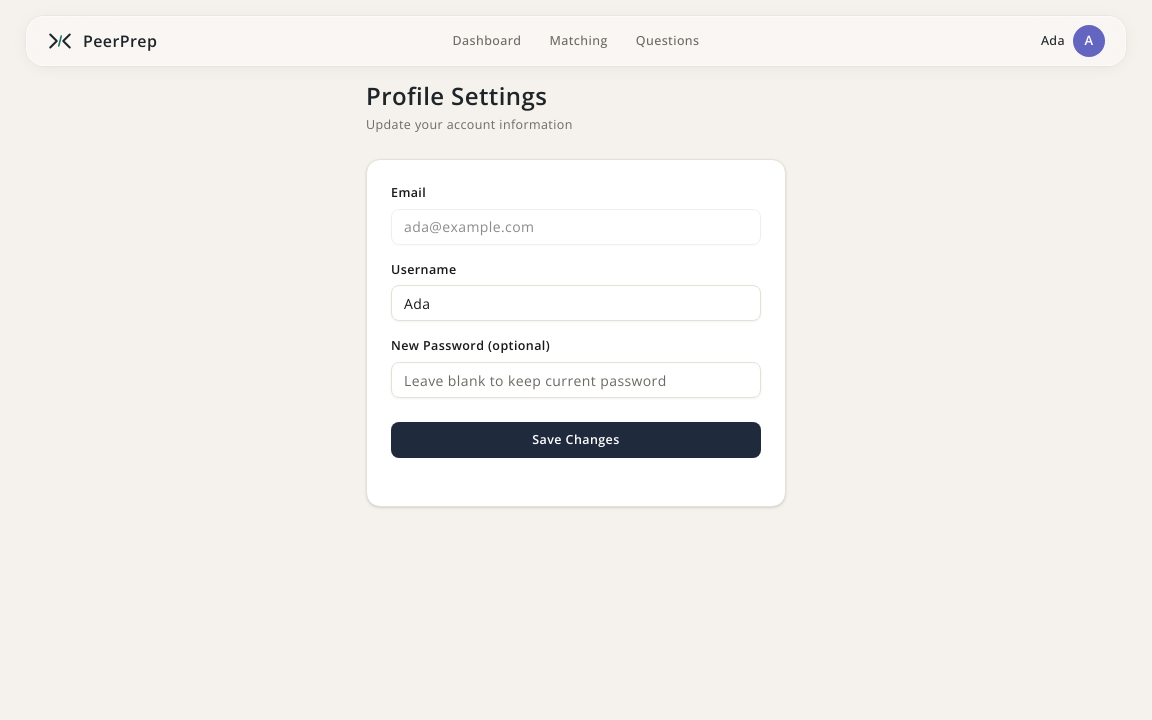
ProfilePage › shows an API error message on failure
Type "ValidPass123" into the password field with placeholder "Leave blank to keep current password" at (576, 380), box [391,362,761,398]
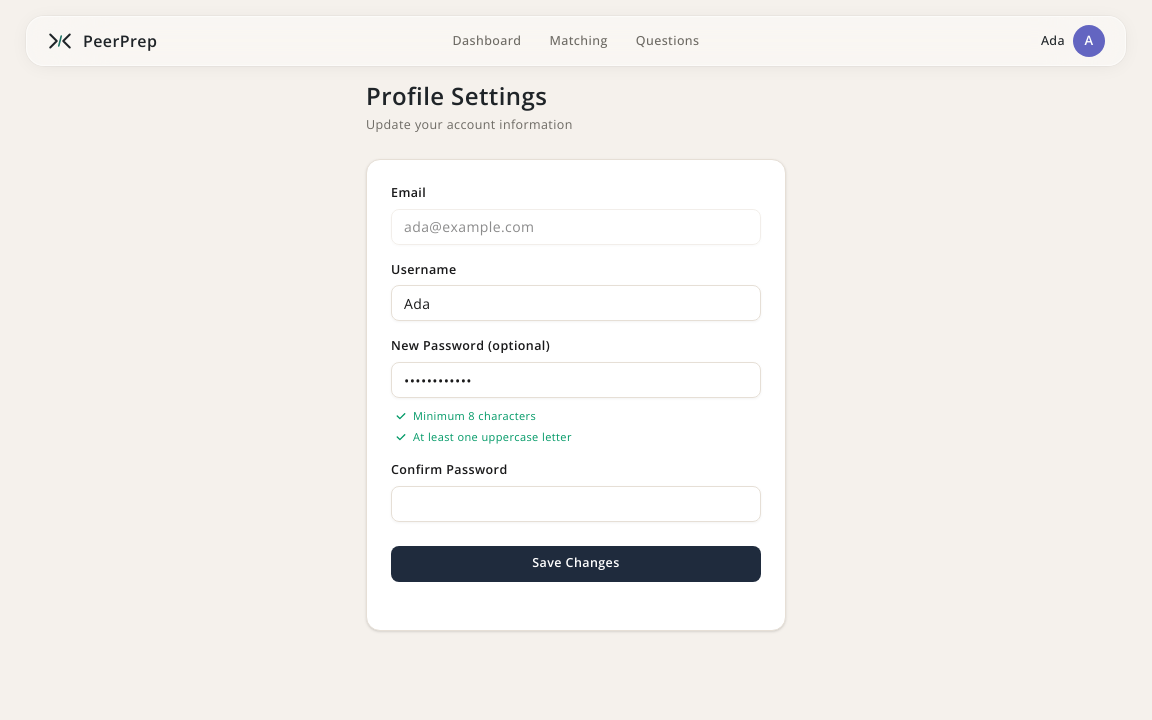
Type "ValidPass123" into the password field below "Confirm Password" at (576, 504), box [391,486,761,522]
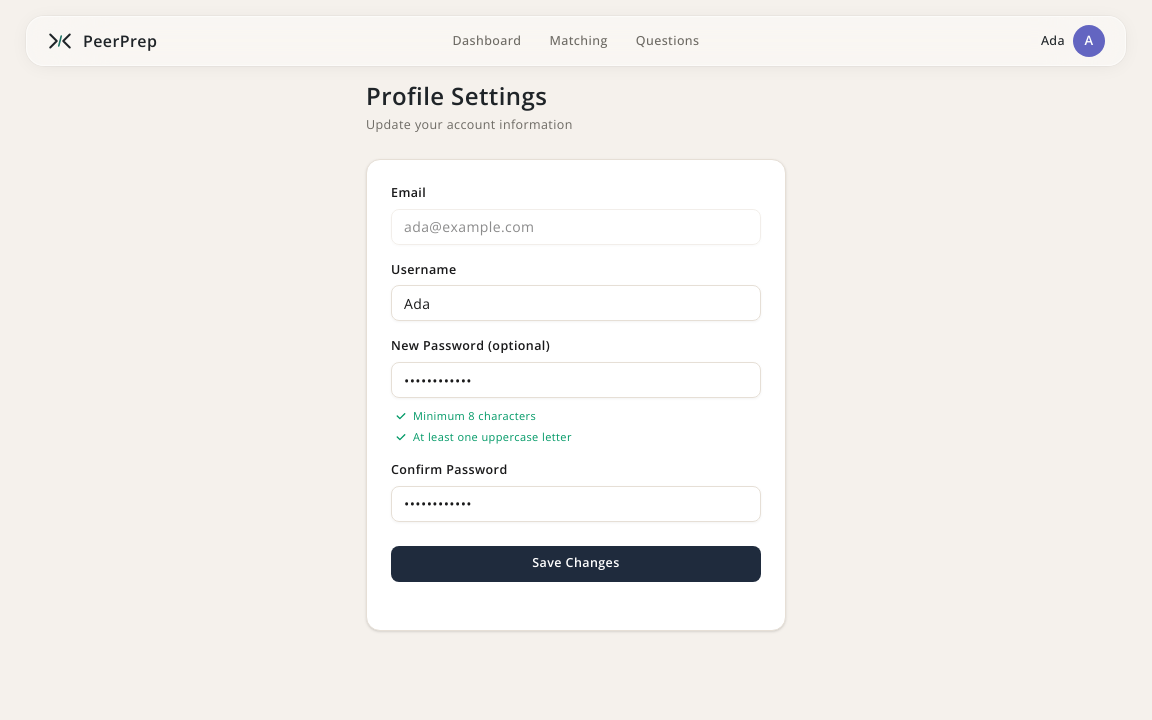
Click the button "Save Changes" at (576, 564), box [391,546,761,582]
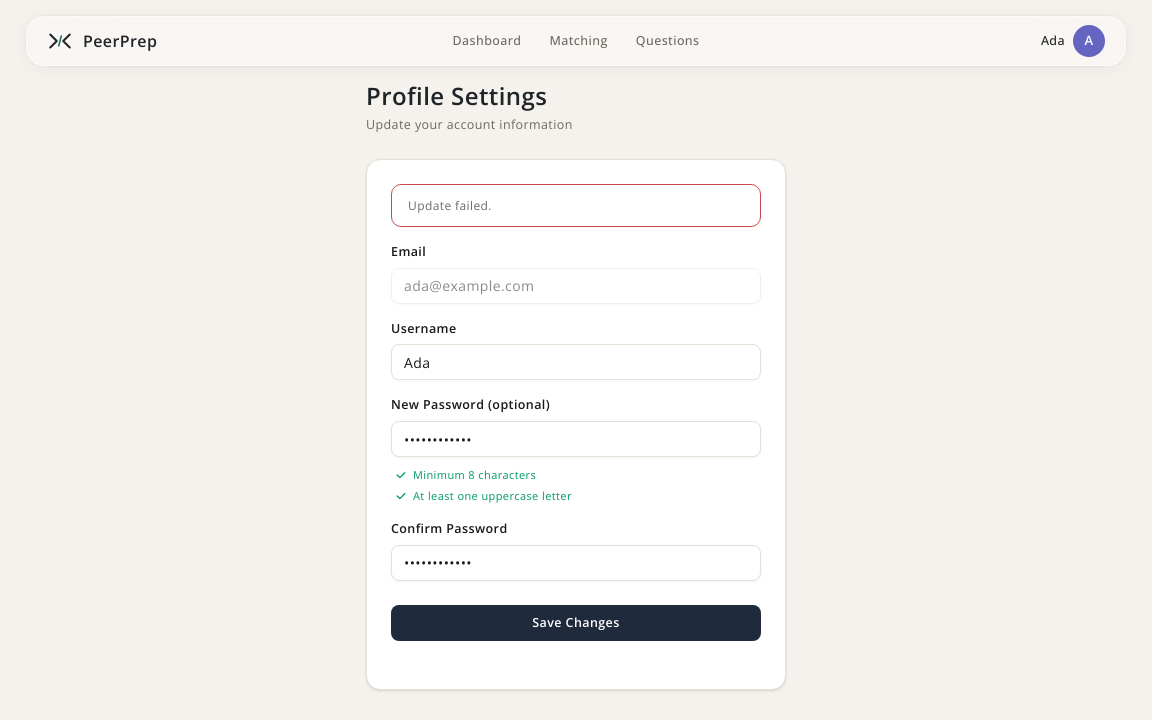
expect the text "Update failed." is shown: met, box [408,197,492,214]
